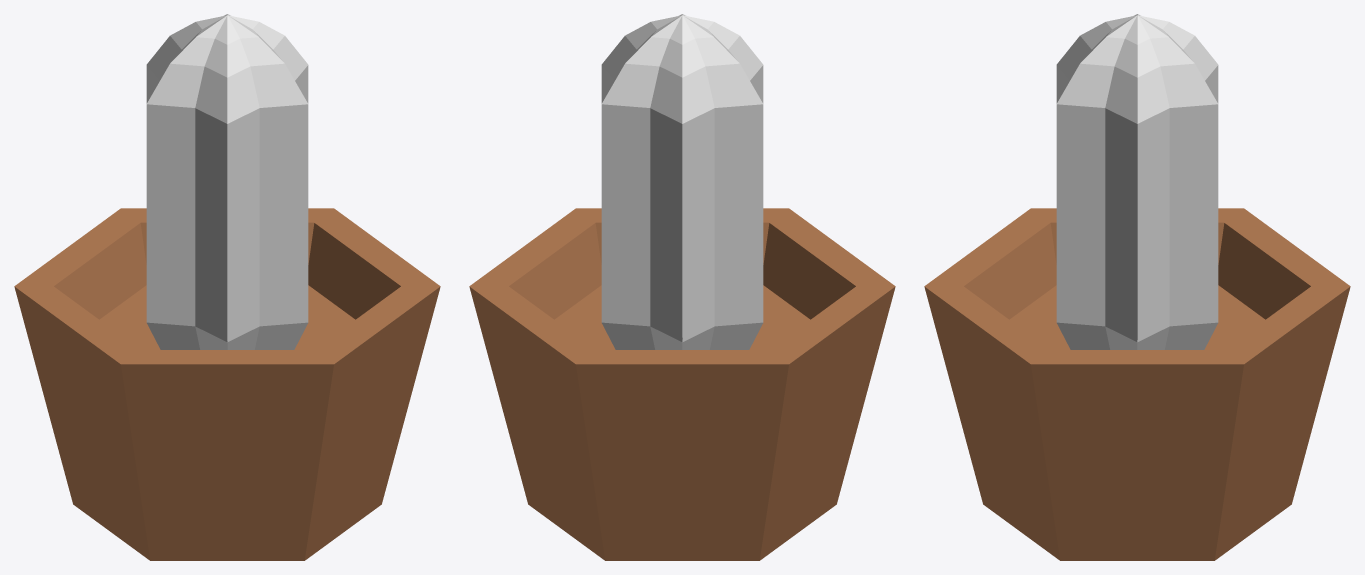
Rendered from plantSmall2.fbx.
The picture shows the model from 3 angles, left to right: view 1: azimuth 30°, elevation 25°; view 2: azimuth 150°, elevation 25°; view 3: azimuth 270°, elevation 25°; orthographic projection.
Parts seen in each view (by area): view 1: Cylinder.001, Cylinder; view 2: Cylinder.001, Cylinder; view 3: Cylinder.001, Cylinder.
Boxes of the visible parts, bbox=[...] form: Cylinder.001: bbox=[14, 208, 440, 560]; Cylinder: bbox=[146, 14, 308, 349]; Cylinder.001: bbox=[469, 208, 895, 560]; Cylinder: bbox=[601, 14, 763, 349]; Cylinder.001: bbox=[924, 208, 1350, 560]; Cylinder: bbox=[1056, 14, 1218, 349].
Size of the model in its own units: 173 by 253 by 200.
